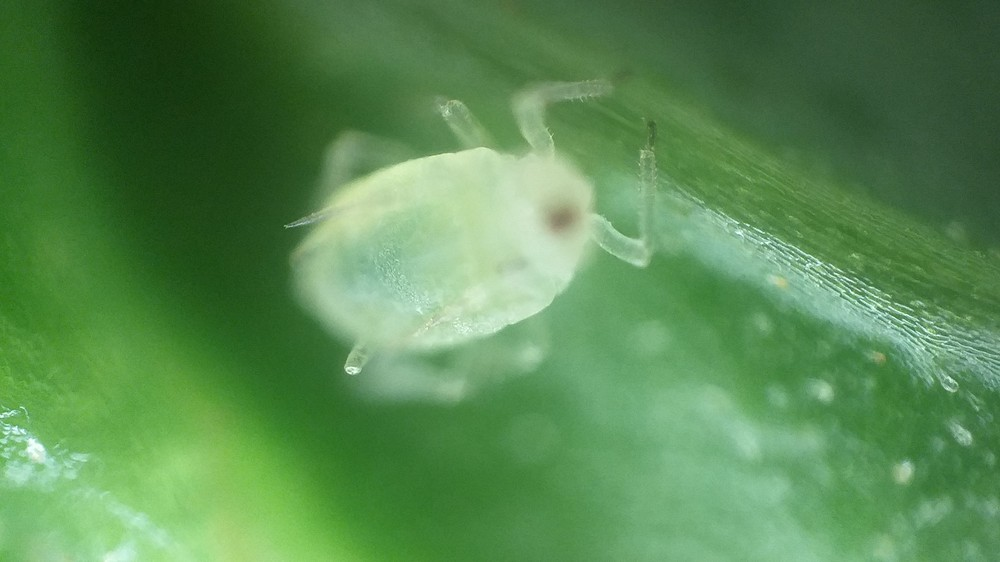Pulgon: (259, 62, 699, 406)
